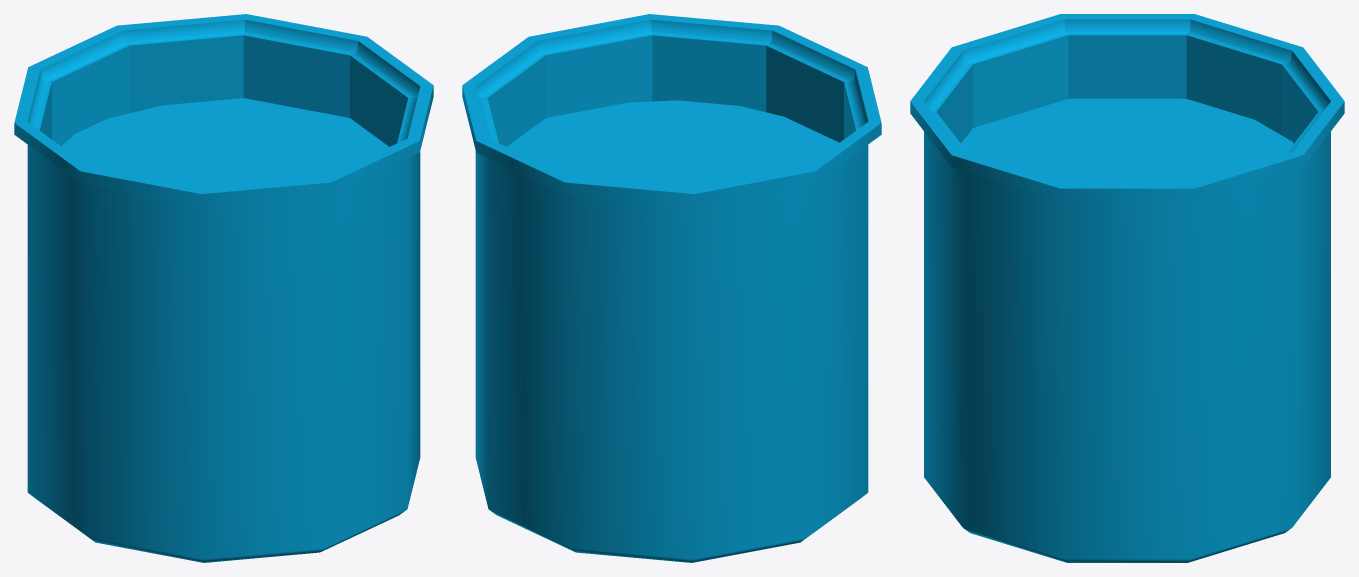
File: Paint_Bucket_02_Lod1.fbx
3 views of the same model, side by side, from view 1: azimuth 30°, elevation 25°; view 2: azimuth 150°, elevation 25°; view 3: azimuth 270°, elevation 25° (orthographic).
Parts seen in each view (by area): view 1: Paint_Bucket_02_Lod1; view 2: Paint_Bucket_02_Lod1; view 3: Paint_Bucket_02_Lod1.
Part boxes in pixels (bbox=[...]): Paint_Bucket_02_Lod1: bbox=[14, 14, 433, 562]; Paint_Bucket_02_Lod1: bbox=[462, 14, 881, 562]; Paint_Bucket_02_Lod1: bbox=[910, 14, 1344, 562].
Bounding box in the file's own units: 23.93 × 24.5 × 25.17.
